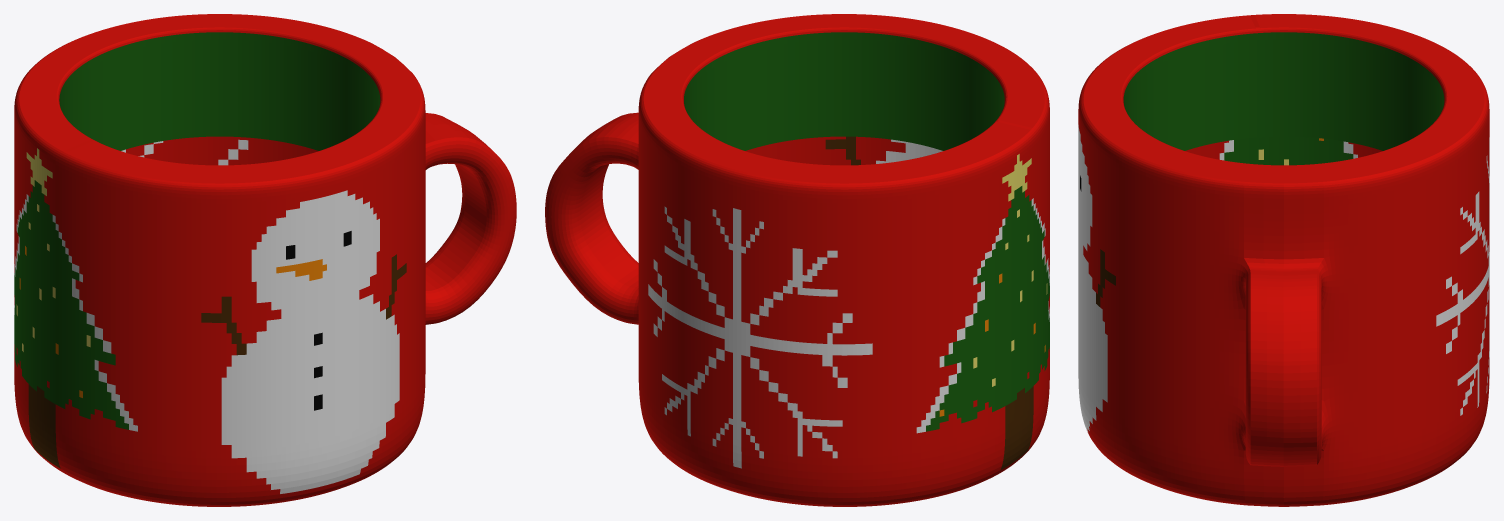
Rendered from mug.glb.
3 renders of one model, left to right at view 1: azimuth 30°, elevation 25°; view 2: azimuth 150°, elevation 25°; view 3: azimuth 270°, elevation 25°, orthographic.
Visible parts, largest first — view 1: Cylinder.001; view 2: Cylinder.001; view 3: Cylinder.001.
Boxes of the visible parts, x1=… form: Cylinder.001: x1=14, y1=14, x2=516, y2=506; Cylinder.001: x1=545, y1=14, x2=1049, y2=506; Cylinder.001: x1=1078, y1=14, x2=1489, y2=506.
Size of the model in its own units: 0.8682 by 0.5952 by 0.6683.
